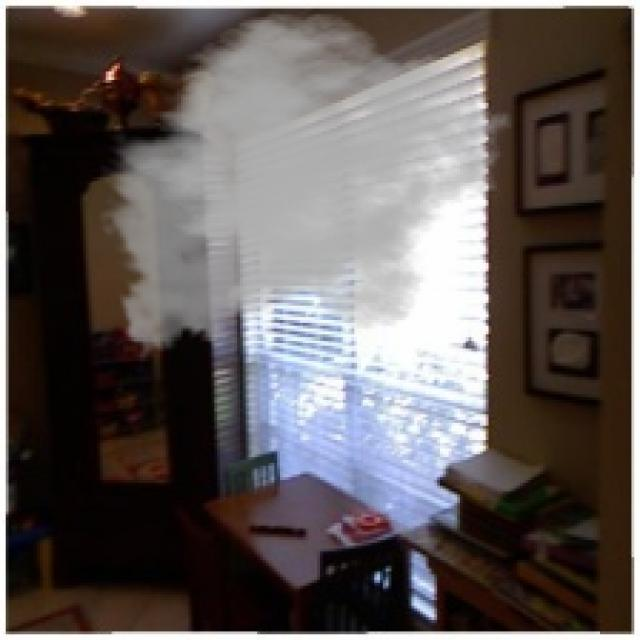smoke: (97, 11, 514, 366)
